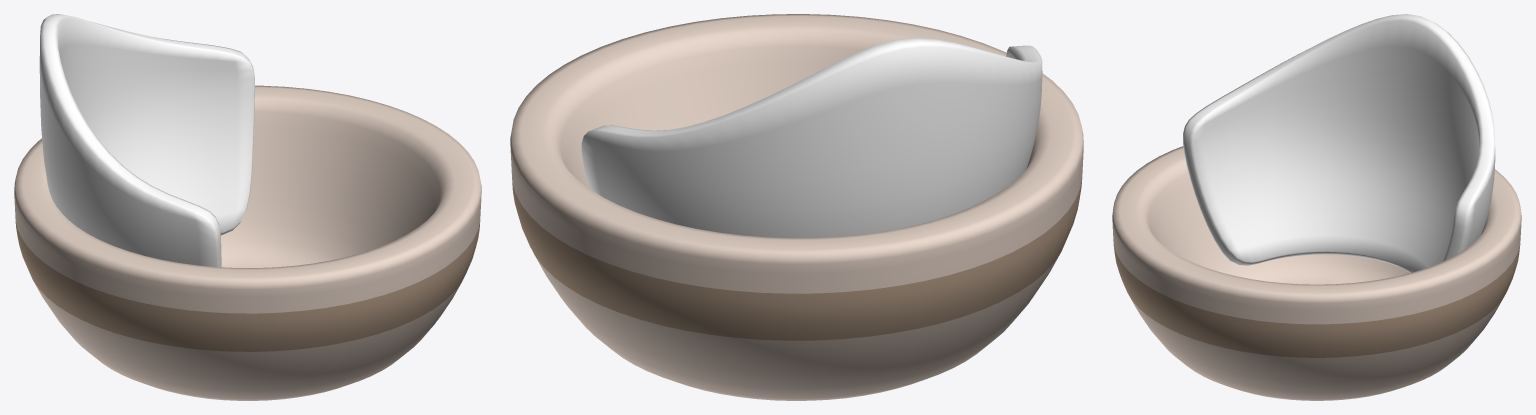
The picture shows the model from 3 angles, left to right: view 1: azimuth 30°, elevation 25°; view 2: azimuth 150°, elevation 25°; view 3: azimuth 270°, elevation 25°; orthographic projection. The views are drawn at different scales.
Visible parts, largest first — view 1: Bowl; view 2: Bowl; view 3: Bowl.
Part boxes in pixels (x1,y1,x2,y2): Bowl: (14, 14, 481, 400); Bowl: (510, 14, 1083, 400); Bowl: (1112, 14, 1521, 400).
Size of the model in its own units: 0.2122 by 0.1563 by 0.2122.
Materials: 3 (1 with a texture image).
